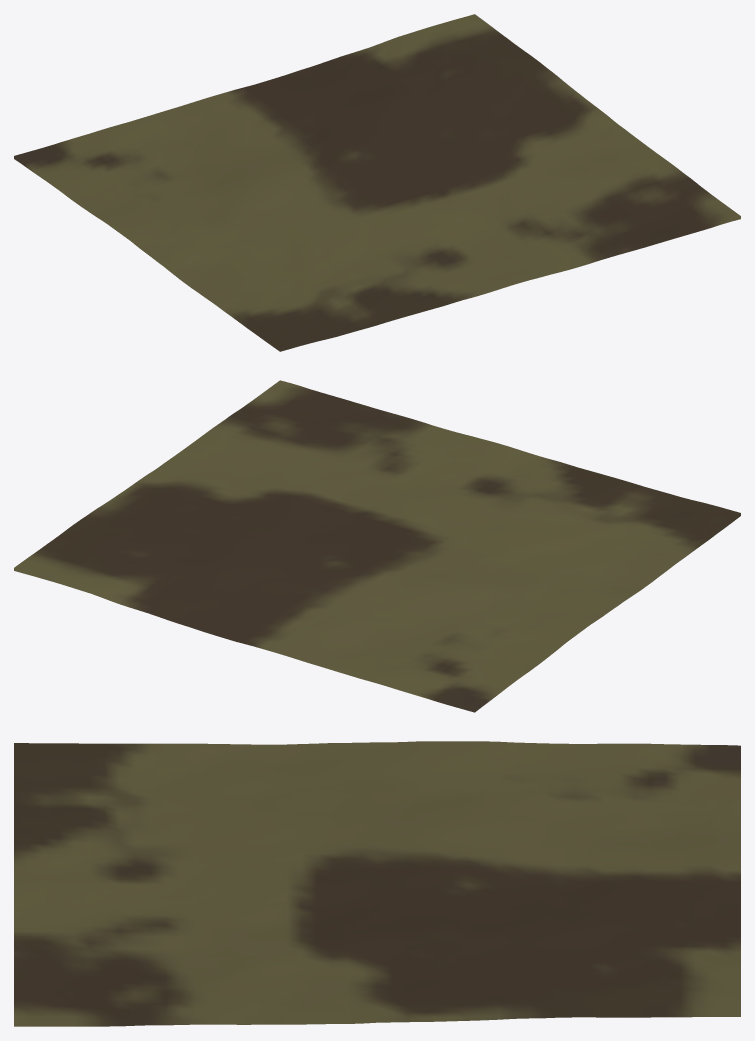
File: land_m_15_06.glb
The picture shows the model from 3 angles, top to bottom: view 1: azimuth 30°, elevation 25°; view 2: azimuth 150°, elevation 25°; view 3: azimuth 270°, elevation 25°; orthographic projection. The views are drawn at different scales.
Parts seen in each view (by area): view 1: land_m_15_06; view 2: land_m_15_06; view 3: land_m_15_06.
Part boxes in pixels (<box>): land_m_15_06: <box>14,14,740,351</box>; land_m_15_06: <box>14,380,740,712</box>; land_m_15_06: <box>14,741,740,1026</box>.
Bounding box in the file's own units: 960 × 64.42 × 960.
